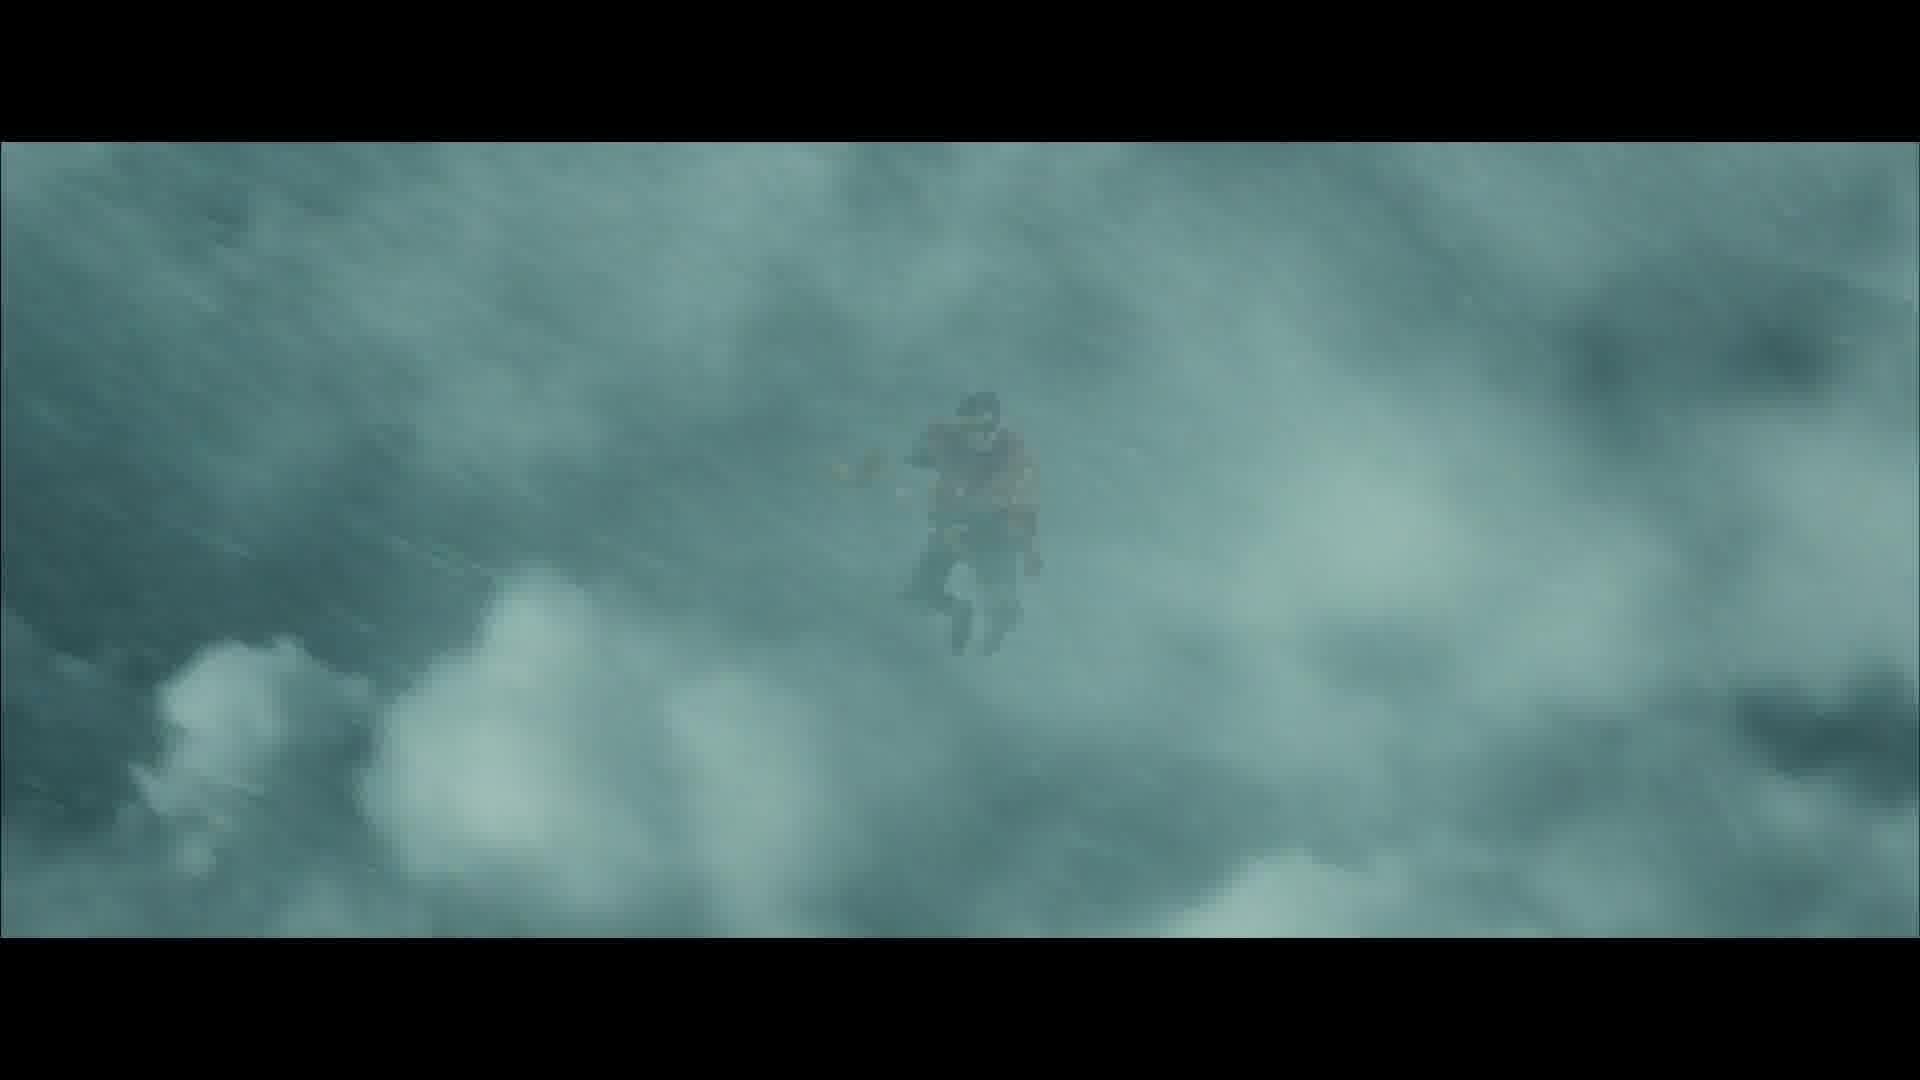snitch: (827, 460, 876, 502)
